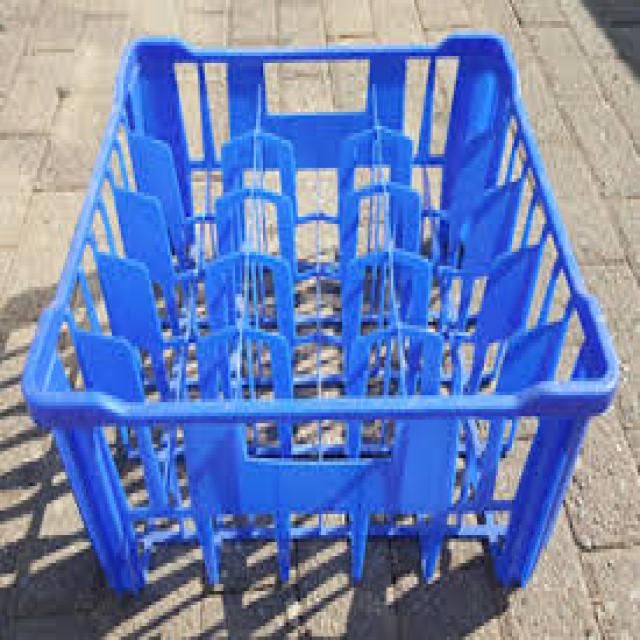basket: (19, 33, 624, 594)
